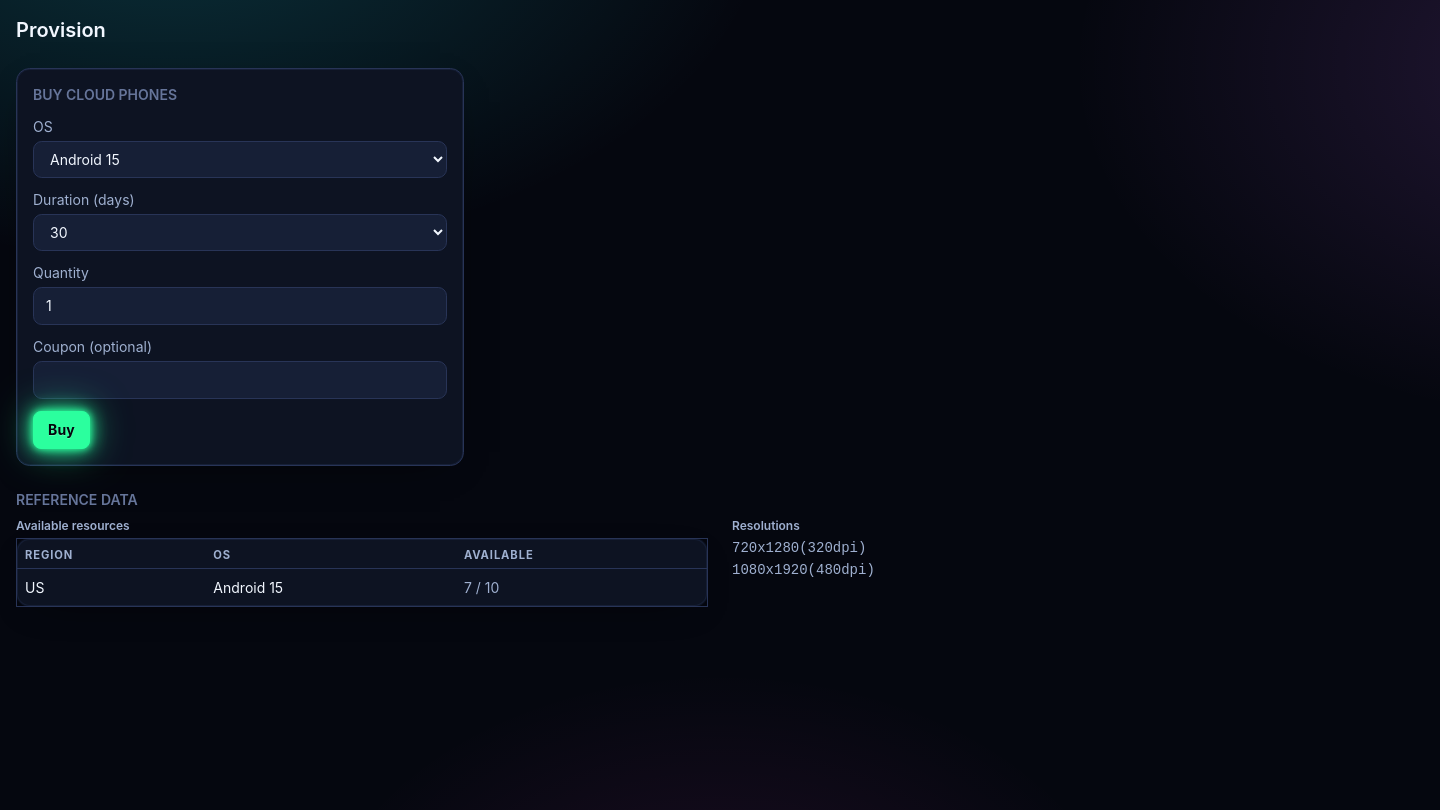
Test: ProvisionPage › buys phones and shows the returned order id
Step 1. Click the button "Buy" → (61, 430), box [33,411,90,449]
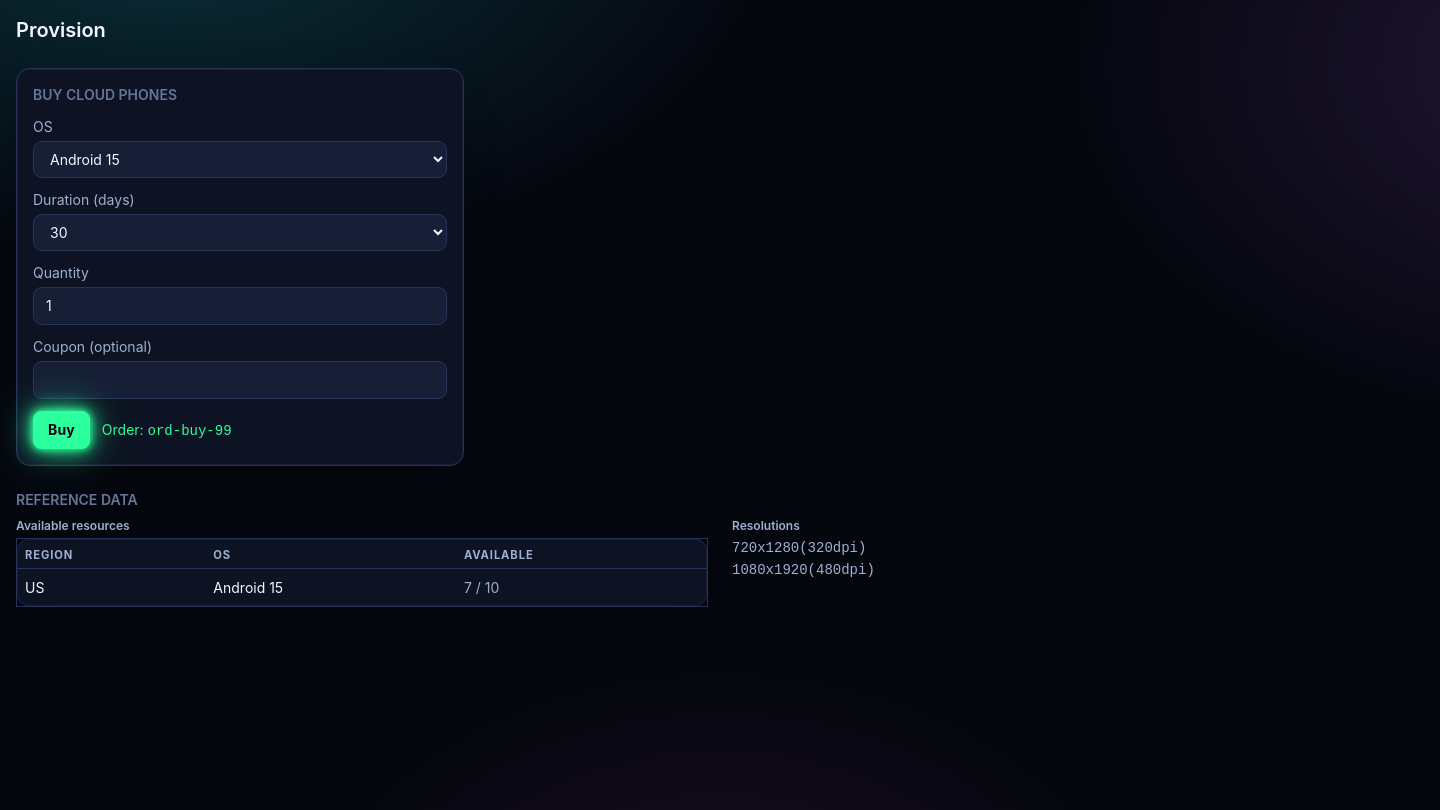
Now the text "ord-buy-99" is shown, box [148,422,232,438]
